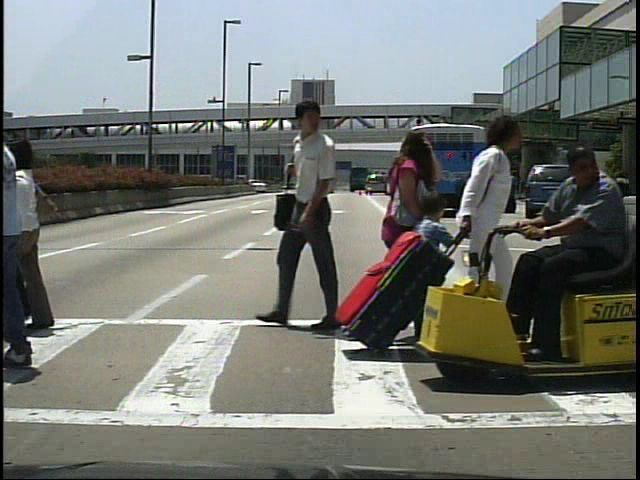person: (516, 144, 632, 369), (260, 101, 347, 315), (457, 102, 535, 337), (373, 124, 440, 354), (11, 132, 75, 330), (410, 186, 455, 319), (582, 162, 602, 218), (495, 164, 515, 213), (499, 166, 517, 219)
